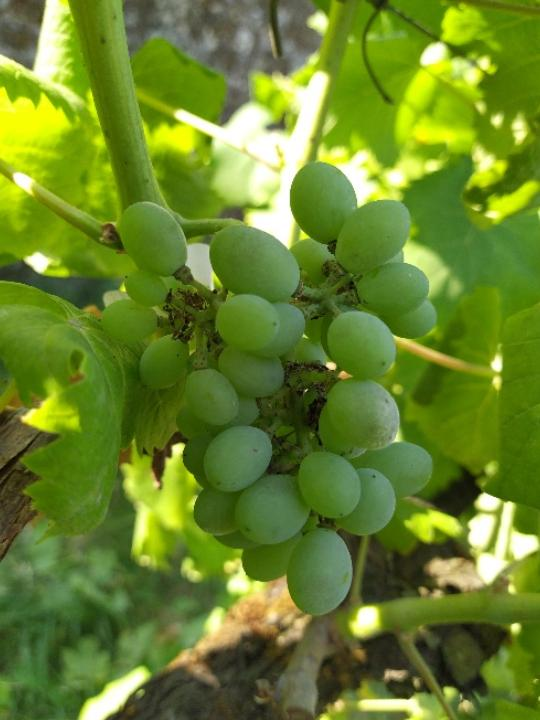grape: (95, 154, 444, 625)
